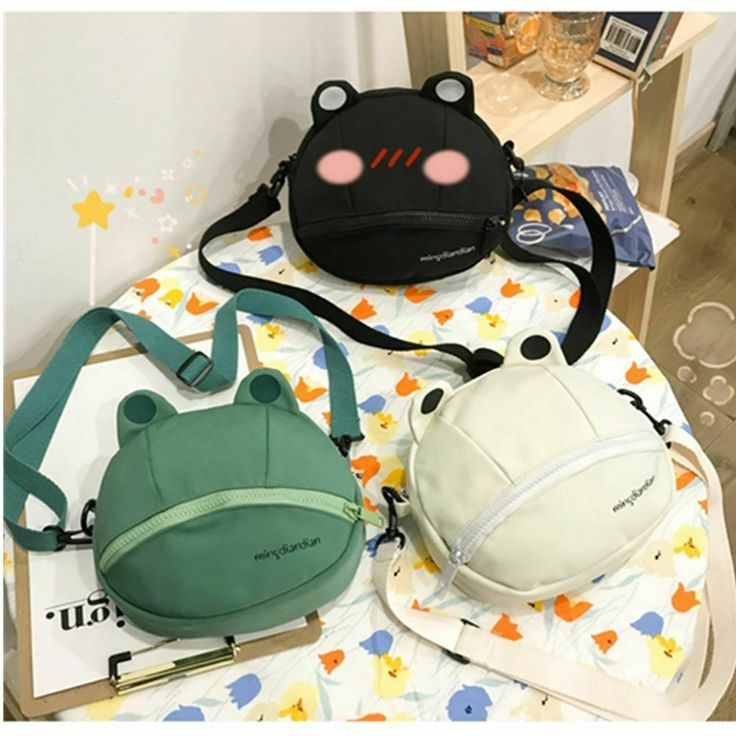nylon: (2, 70, 736, 720)
